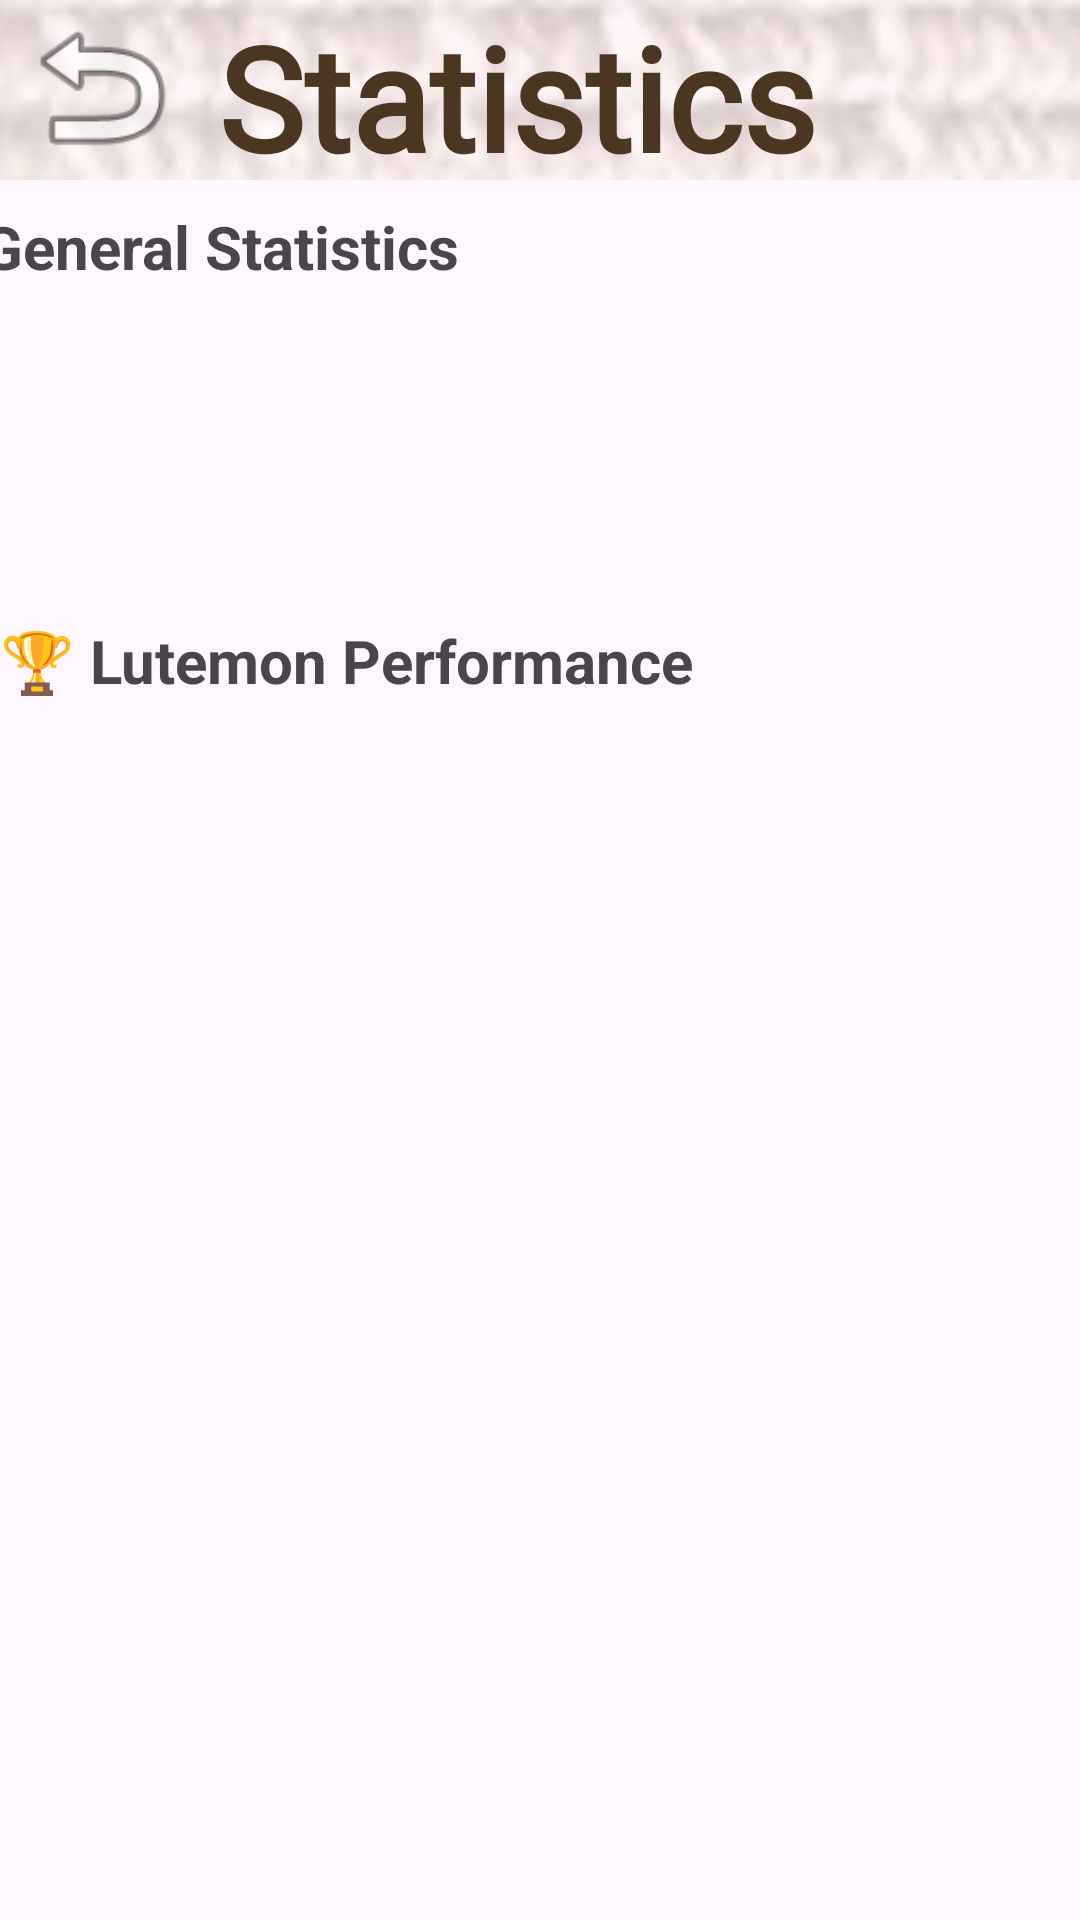

Where to tap for icons on this 1080 x 1920 app screen, as (x,y):
revert: (120,77)
